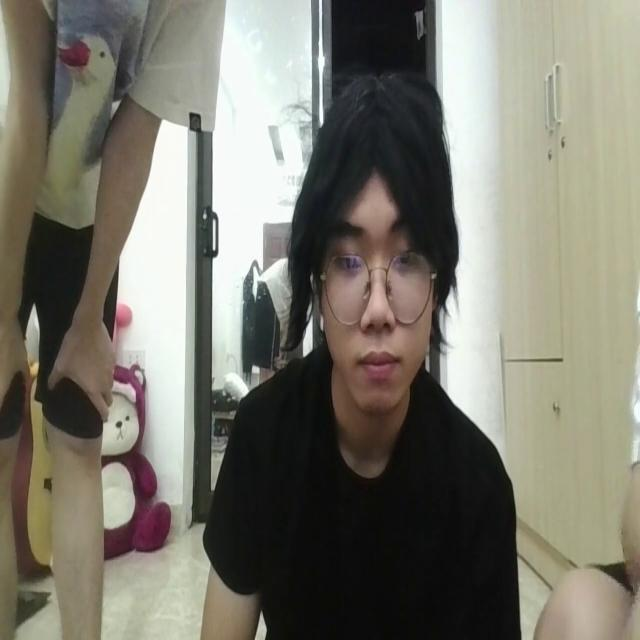extra_person: (2, 0, 212, 640)
student: (204, 64, 516, 640)
